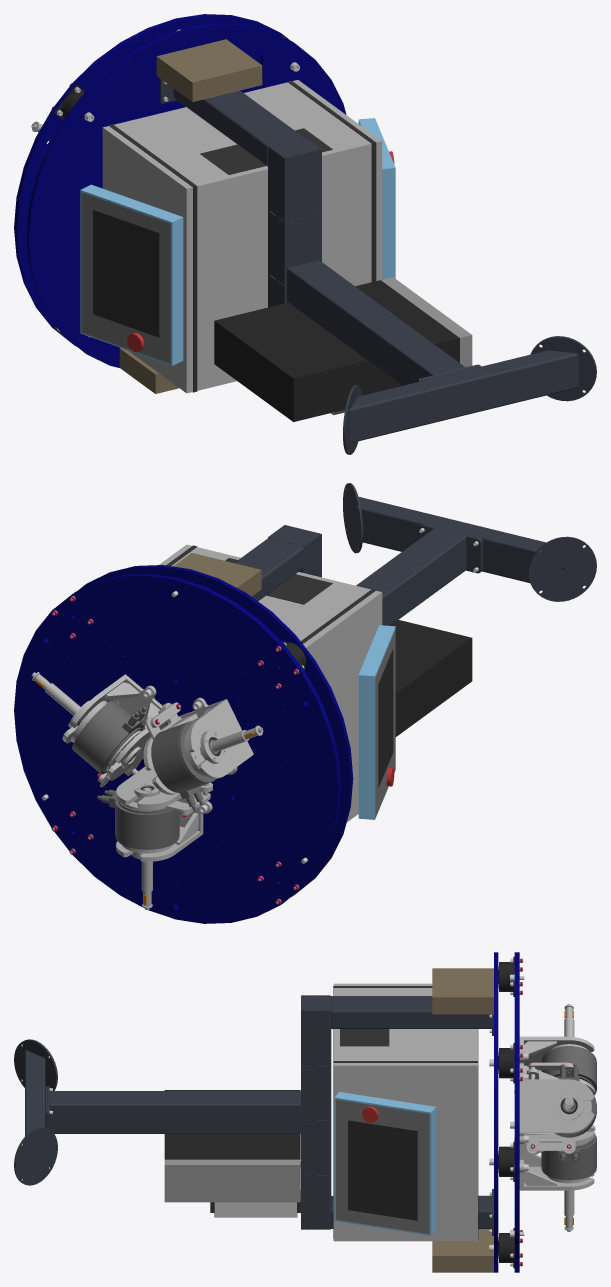
File: estructura_asm.dae
3 renders of one model, top to bottom at view 1: azimuth 30°, elevation 25°; view 2: azimuth 150°, elevation 25°; view 3: azimuth 270°, elevation 25°, orthographic. The views are drawn at different scales.
Visible parts, largest first — view 1: Node_0x518c190, Node_0x5189c90, Node_0x51897f0, Node_0x518fdb0, Node_0x518efd0, Node_0x518b3b0, Node_0x518eb30, Node_0x518e690, Node_0x518d410, Node_0x518cad0, Node_0x518f910, Node_0x518c630 (+1 smaller); view 2: Node_0x51897f0, Node_0x5189c90, Node_0x518a130, Node_0x518c190, Node_0x518b850, Node_0x518fdb0, Node_0x518e690, Node_0x518b3b0, Node_0x518efd0, Node_0x518eb30, Node_0x518c630, Node_0x518a5d0; view 3: Node_0x5189c90, Node_0x518c190, Node_0x518a130, Node_0x518dd50, Node_0x518f910, Node_0x518b3b0, Node_0x518d8b0, Node_0x518fdb0, Node_0x51897f0, Node_0x518b850, Node_0x518d410, Node_0x5189350 (+4 smaller).
Part boxes in pixels (bbox=[...]): Node_0x518c190: bbox=[102, 80, 382, 393]; Node_0x5189c90: bbox=[160, 78, 596, 454]; Node_0x51897f0: bbox=[14, 14, 346, 367]; Node_0x518fdb0: bbox=[214, 280, 459, 421]; Node_0x518efd0: bbox=[93, 210, 159, 337]; Node_0x518b3b0: bbox=[119, 39, 262, 393]; Node_0x518eb30: bbox=[81, 192, 170, 363]; Node_0x518e690: bbox=[80, 184, 183, 365]; Node_0x518d410: bbox=[358, 118, 395, 279]; Node_0x518cad0: bbox=[108, 124, 197, 392]; Node_0x518f910: bbox=[381, 277, 472, 367]; Node_0x518c630: bbox=[200, 128, 332, 174]; Node_0x51897f0: bbox=[14, 565, 353, 923]; Node_0x5189c90: bbox=[234, 483, 596, 625]; Node_0x518a130: bbox=[31, 672, 263, 910]; Node_0x518c190: bbox=[159, 544, 382, 822]; Node_0x518b850: bbox=[72, 700, 215, 849]; Node_0x518fdb0: bbox=[390, 620, 472, 736]; Node_0x518e690: bbox=[358, 625, 395, 819]; Node_0x518b3b0: bbox=[173, 553, 261, 596]; Node_0x518efd0: bbox=[378, 649, 393, 787]; Node_0x518eb30: bbox=[375, 629, 395, 816]; Node_0x518c630: bbox=[225, 558, 332, 604]; Node_0x518a5d0: bbox=[42, 528, 478, 903]; Node_0x5189c90: bbox=[14, 995, 493, 1235]; Node_0x518c190: bbox=[333, 983, 477, 1241]; Node_0x518a130: bbox=[519, 1004, 595, 1231]; Node_0x518dd50: bbox=[348, 1120, 417, 1220]; Node_0x518f910: bbox=[164, 1159, 300, 1202]; Node_0x518b3b0: bbox=[432, 968, 493, 1272]; Node_0x518d8b0: bbox=[336, 1099, 429, 1234]; Node_0x518fdb0: bbox=[164, 1090, 300, 1159]; Node_0x51897f0: bbox=[494, 952, 519, 1272]; Node_0x518b850: bbox=[541, 1046, 596, 1180]; Node_0x518d410: bbox=[334, 1092, 436, 1235]; Node_0x5189350: bbox=[498, 956, 514, 1268].
Bounding box in the file's own units: 0.78 × 0.78 × 1.41.
